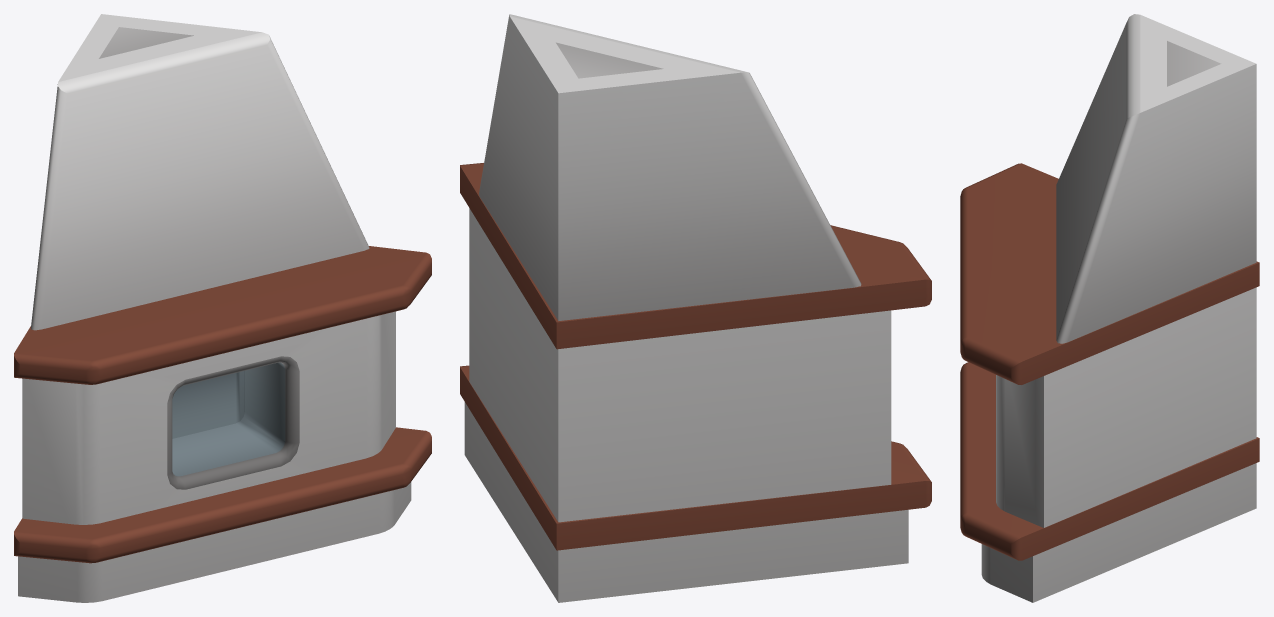
File: Fireplace_09.glb
3 renders of one model, left to right at view 1: azimuth 30°, elevation 25°; view 2: azimuth 150°, elevation 25°; view 3: azimuth 270°, elevation 25°, orthographic. The views are drawn at different scales.
Parts seen in each view (by area): view 1: Fireplace_09; view 2: Fireplace_09; view 3: Fireplace_09.
Boxes of the visible parts, x1,y1,x2,y2 form: Fireplace_09: (14,14,431,602); Fireplace_09: (460,14,931,602); Fireplace_09: (960,14,1259,602).
Size of the model in its own units: 1.83 by 1.9 by 1.16.
Materials: 1 (1 with a texture image).
